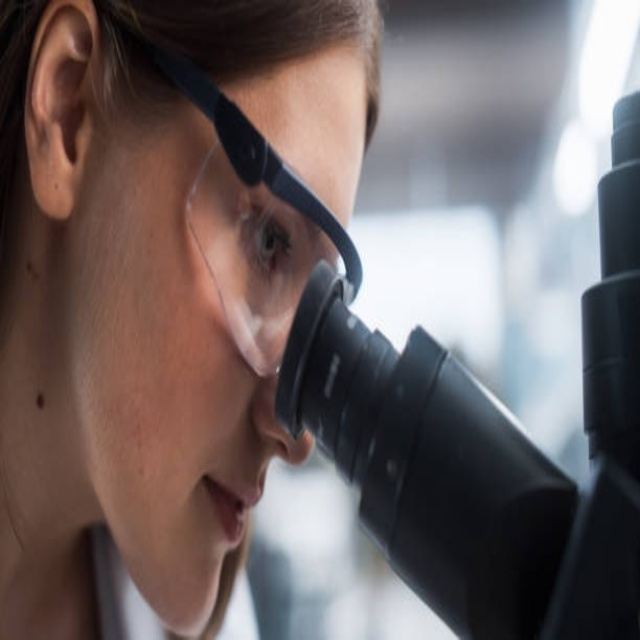Gafas: (123, 21, 363, 307)
Sin_mascara: (150, 438, 279, 632)
